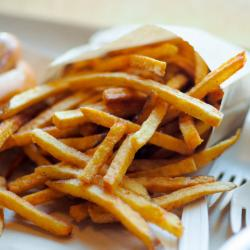fries: (3, 42, 225, 233)
